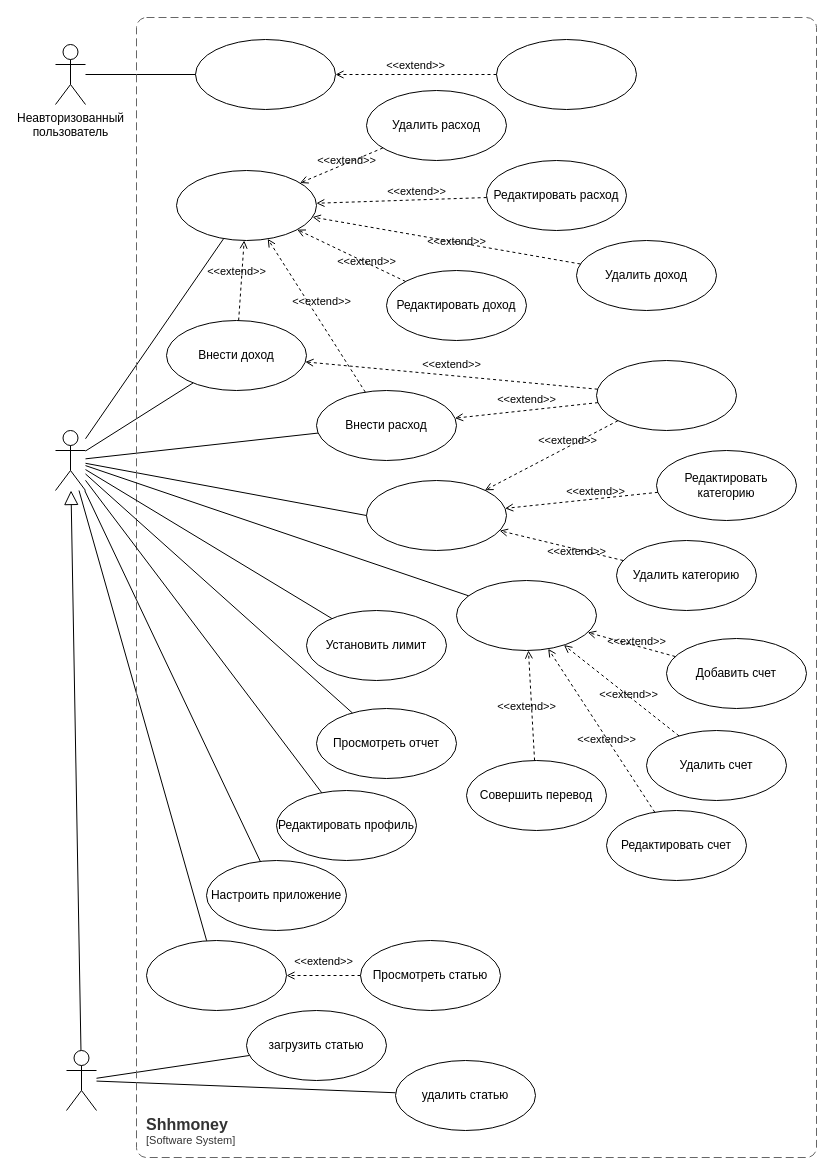
Some shapes in this 834 by 1175 pixel diagram are drawn without their labels. The shapes that lost their labels are listed below. From the top down, each one's centre as x and y in pixels, then its label:
point 265,74: Войти в приложение
point 566,74: Зарегистрироваться
point 246,205: Просмотреть расходы и доходы
point 666,395: Добавить категорию
point 70,460: Авторизованный пользователь
point 436,515: Просмотреть список категорий
point 526,615: Просмотреть счета
point 216,975: Просмотреть список статей
point 81,1080: Администратор
